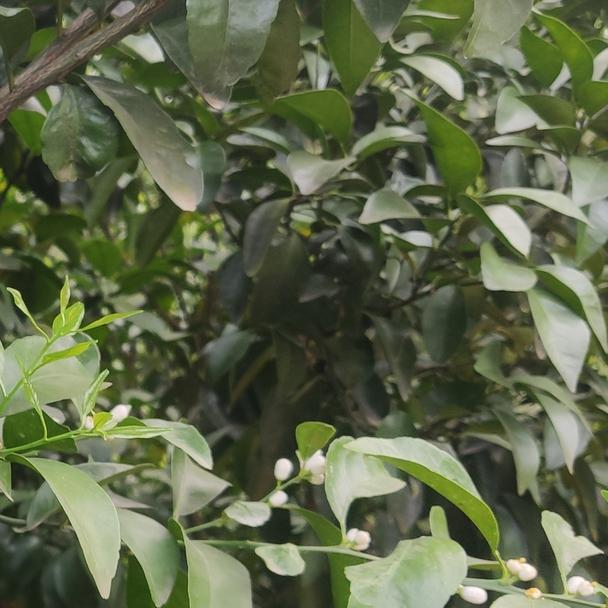shoot: (4, 275, 148, 411)
